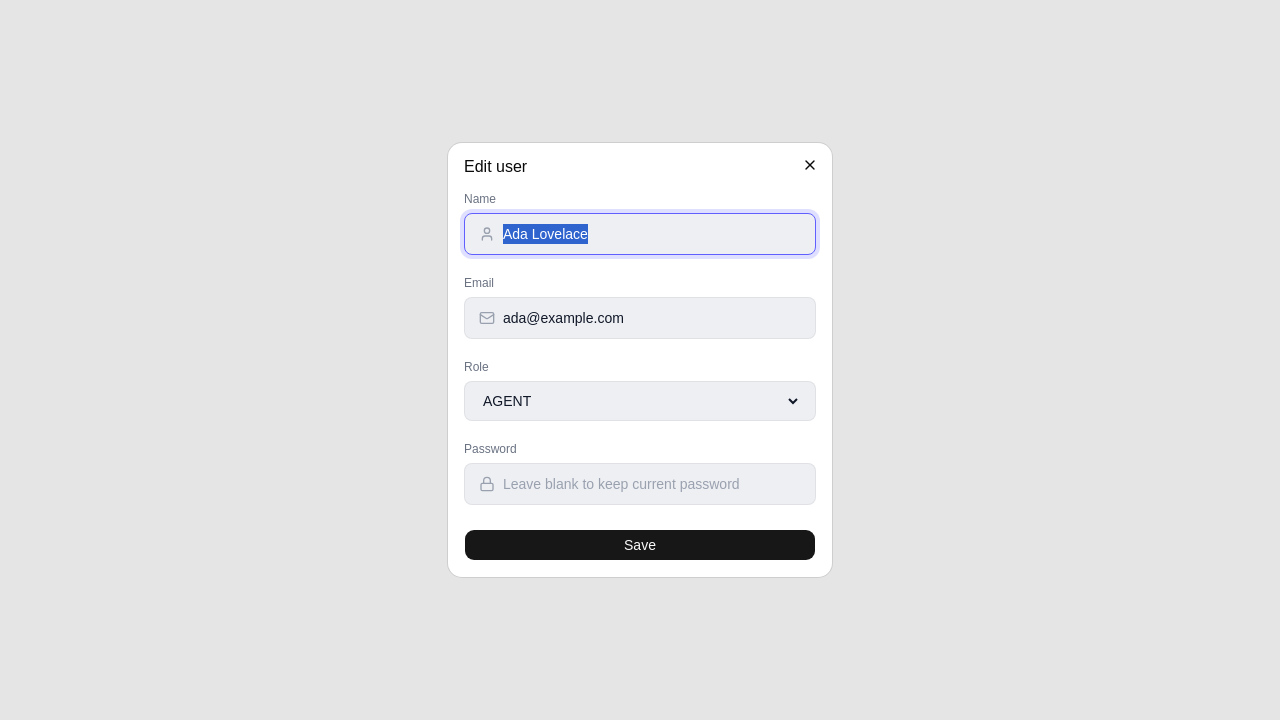
EditUserModal › shows an inline error and keeps the modal open on duplicate email
Click the button "Save" at (640, 545), box left=464, top=529, right=816, bottom=561
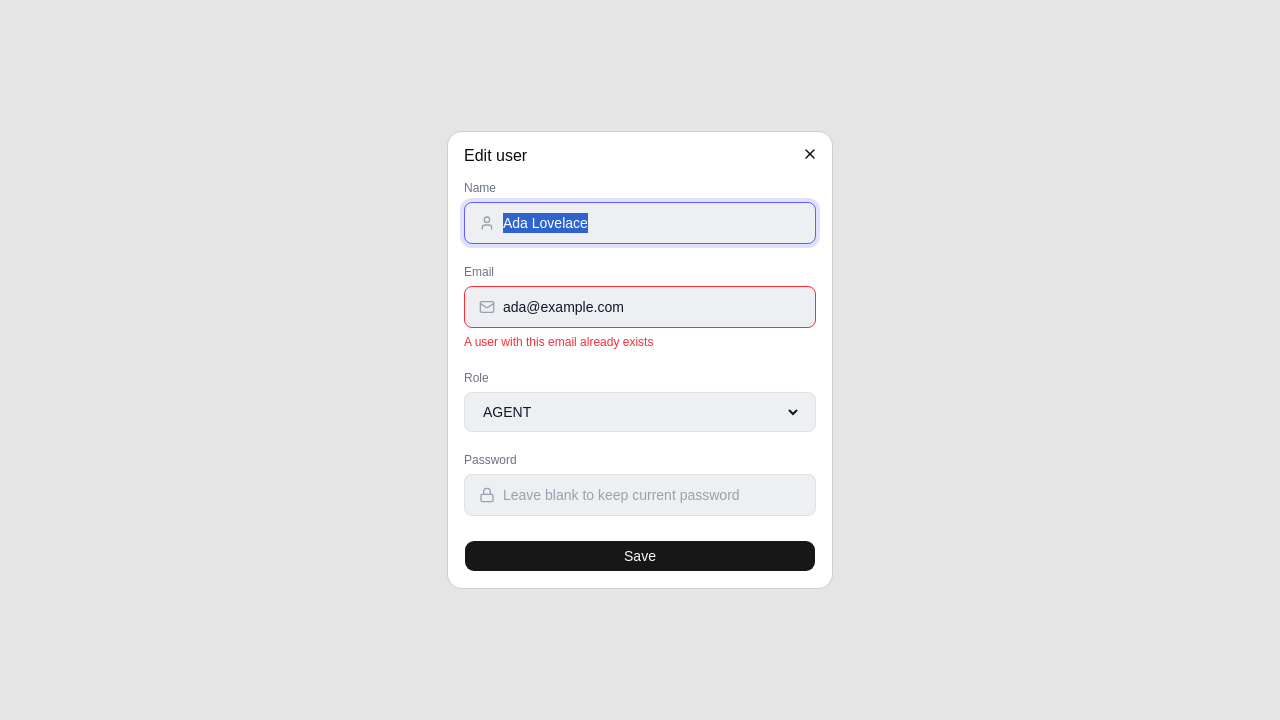
Now the text "A user with this email already exists" is shown, box left=464, top=335, right=653, bottom=349
